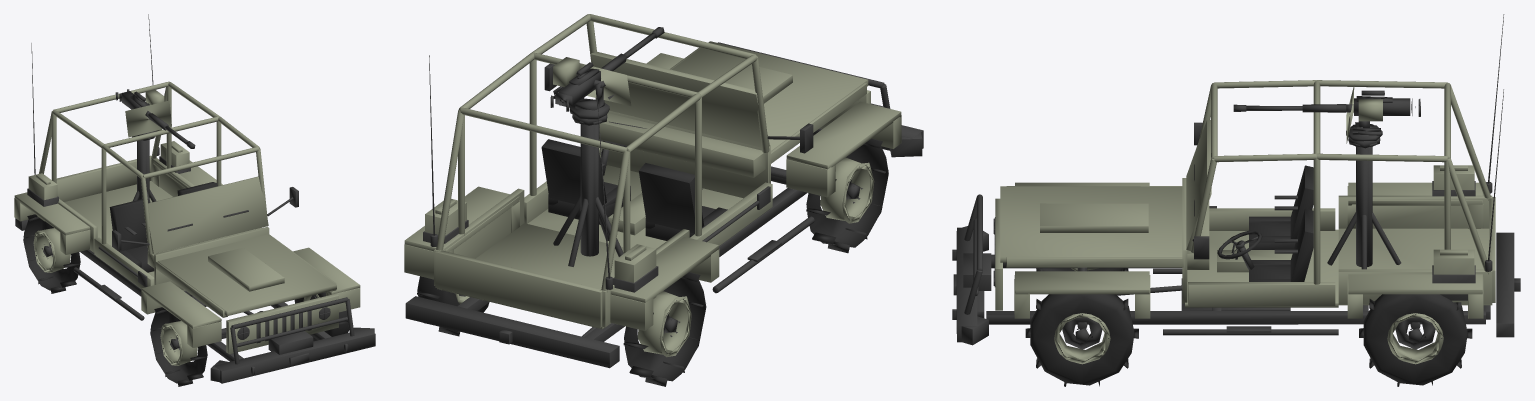
File: jeep.glb
3 renders of one model, left to right at view 1: azimuth 30°, elevation 25°; view 2: azimuth 150°, elevation 25°; view 3: azimuth 270°, elevation 25°, orthographic. The views are drawn at different scales.
Visible parts, largest first — view 1: body, wheel_fr, wheel_rr, mg_turret, mg_gun, wheel_fl; view 2: body, wheel_rr, wheel_fr, mg_gun, mg_turret, wheel_rl; view 3: body, wheel_fl, wheel_rl, mg_gun, mg_turret, steering.
Part boxes in pixels (x1=…): body: x1=14, y1=14, x2=375, y2=383; wheel_fr: x1=150, y1=307, x2=207, y2=386; wheel_rr: x1=23, y1=214, x2=80, y2=293; mg_turret: x1=125, y1=100, x2=171, y2=140; mg_gun: x1=115, y1=89, x2=195, y2=148; wheel_fl: x1=294, y1=292, x2=349, y2=341; body: x1=404, y1=14, x2=923, y2=368; wheel_rr: x1=623, y1=272, x2=706, y2=386; wheel_fr: x1=806, y1=138, x2=888, y2=253; mg_gun: x1=550, y1=27, x2=664, y2=111; mg_turret: x1=553, y1=63, x2=631, y2=125; wheel_rl: x1=417, y1=276, x2=488, y2=336; body: x1=952, y1=14, x2=1520, y2=345; wheel_fl: x1=1025, y1=294, x2=1138, y2=386; wheel_rl: x1=1359, y1=294, x2=1472, y2=386; mg_gun: x1=1233, y1=90, x2=1420, y2=121; mg_turret: x1=1346, y1=85, x2=1382, y2=148; steering: x1=1217, y1=230, x2=1262, y2=269.
Bounding box in the file's own units: 2.14 × 2.45 × 4.43.
